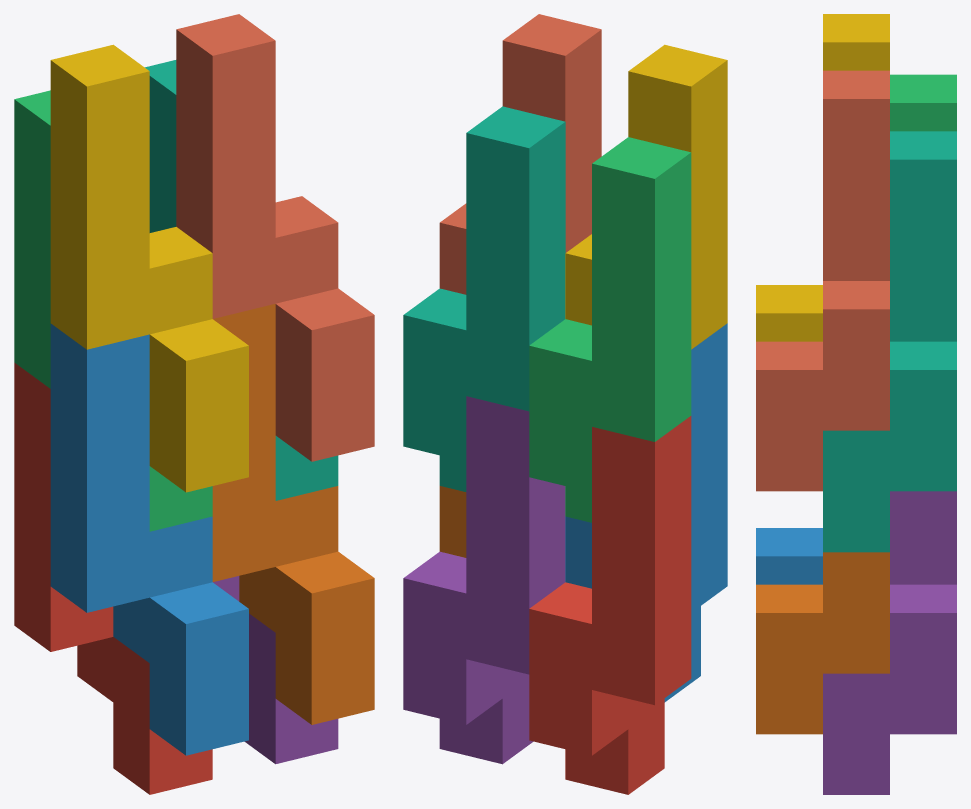
The model's file is tiling.obj.
3 renders of one model, left to right at view 1: azimuth 30°, elevation 25°; view 2: azimuth 150°, elevation 25°; view 3: azimuth 270°, elevation 25°, orthographic. The views are drawn at different scales.
Visible parts, largest first — view 1: copy_1_domain_4, copy_1_domain_2, copy_1_domain_8, copy_1_domain_6, copy_1_domain_1, copy_1_domain_3, copy_1_domain_7, copy_1_domain_5; view 2: copy_1_domain_1, copy_1_domain_3, copy_1_domain_5, copy_1_domain_7, copy_1_domain_4, copy_1_domain_8, copy_1_domain_2, copy_1_domain_6; view 3: copy_1_domain_8, copy_1_domain_7, copy_1_domain_5, copy_1_domain_6, copy_1_domain_4, copy_1_domain_3, copy_1_domain_2.
Part boxes in pixels (x1=…): copy_1_domain_4: x1=50, y1=44, x2=248, y2=492; copy_1_domain_2: x1=50, y1=323, x2=248, y2=755; copy_1_domain_8: x1=176, y1=14, x2=374, y2=461; copy_1_domain_6: x1=212, y1=304, x2=374, y2=724; copy_1_domain_1: x1=14, y1=362, x2=212, y2=794; copy_1_domain_3: x1=14, y1=90, x2=212, y2=531; copy_1_domain_7: x1=145, y1=60, x2=338, y2=500; copy_1_domain_5: x1=213, y1=576, x2=338, y2=764; copy_1_domain_1: x1=529, y1=416, x2=691, y2=794; copy_1_domain_3: x1=529, y1=137, x2=691, y2=522; copy_1_domain_5: x1=403, y1=396, x2=565, y2=764; copy_1_domain_7: x1=403, y1=106, x2=565, y2=491; copy_1_domain_4: x1=565, y1=44, x2=727, y2=349; copy_1_domain_8: x1=439, y1=14, x2=601, y2=294; copy_1_domain_2: x1=565, y1=323, x2=727, y2=702; copy_1_domain_6: x1=439, y1=486, x2=466, y2=557; copy_1_domain_8: x1=756, y1=70, x2=889, y2=491; copy_1_domain_7: x1=823, y1=131, x2=956, y2=552; copy_1_domain_5: x1=823, y1=491, x2=956, y2=794; copy_1_domain_6: x1=756, y1=552, x2=889, y2=734; copy_1_domain_4: x1=756, y1=14, x2=889, y2=341; copy_1_domain_3: x1=890, y1=74, x2=956, y2=131; copy_1_domain_2: x1=756, y1=528, x2=822, y2=584.
Bounding box in the file's own units: 4 × 11 × 3.
